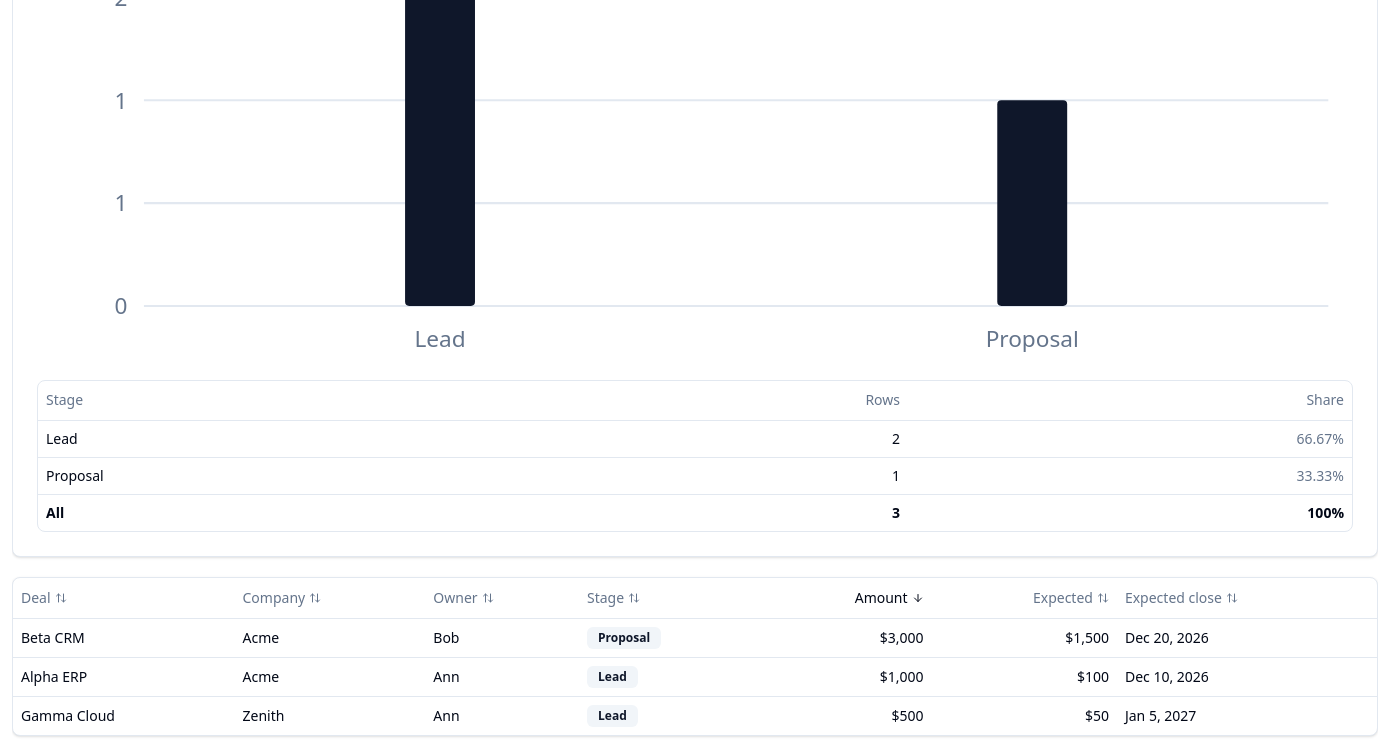
Test case: Analyse: open deals › drills into a group: clicking it narrows the whole page to those rows
This screenshot has width=1378, height=740.
(page scrolled)
expect the link "Alpha ERP" is shown: met, box [21,666,87,686]
Click the button "Lead" at (62, 439), box [46,429,78,449]
(page scrolled)
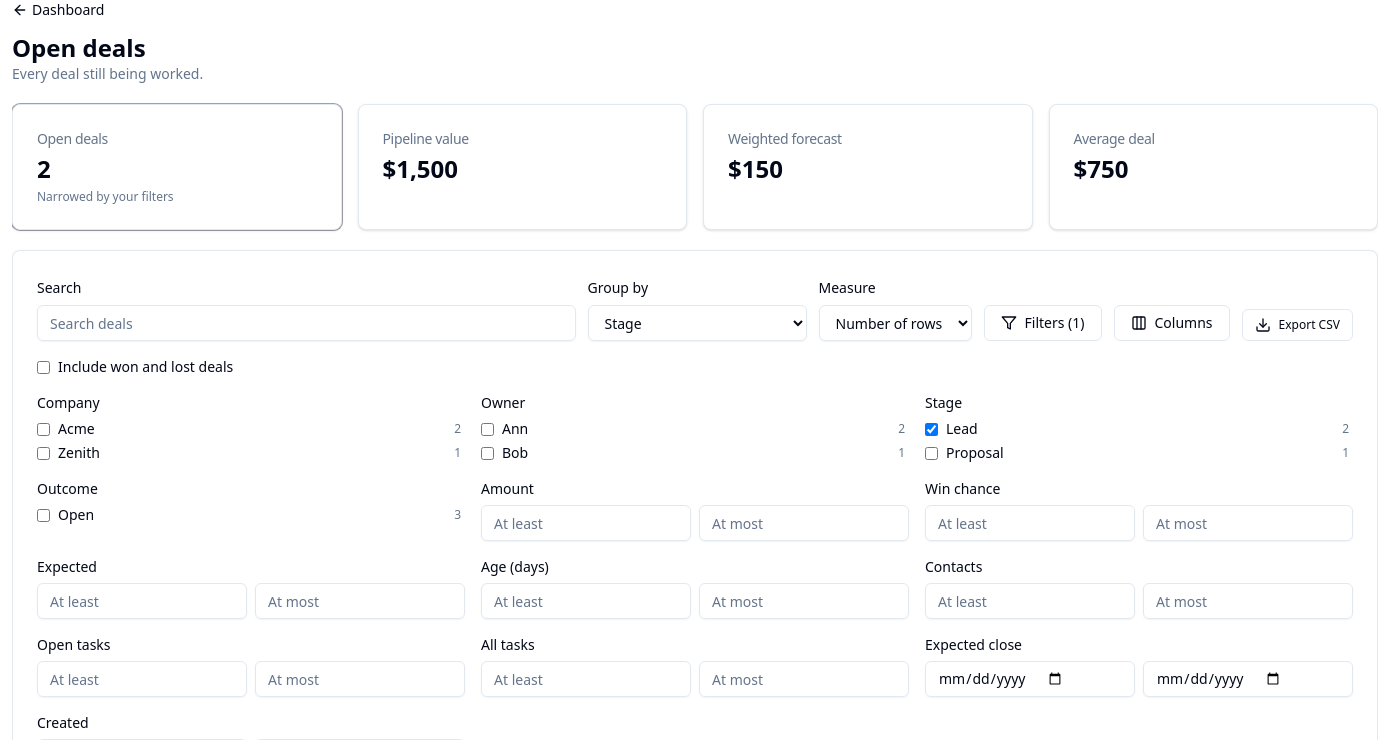
expect the checkbox named "Stage: Lead" is checked: met, box [925,422,938,436]
